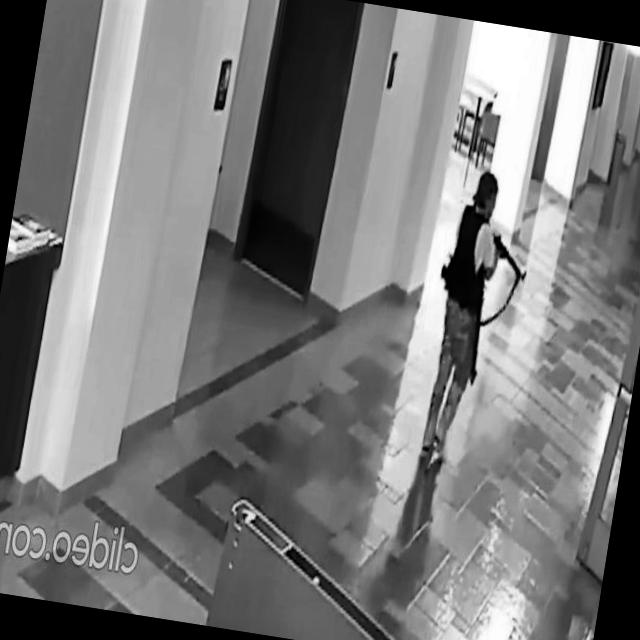gun: (486, 230, 532, 286)
person with a gun: (410, 160, 548, 473)
